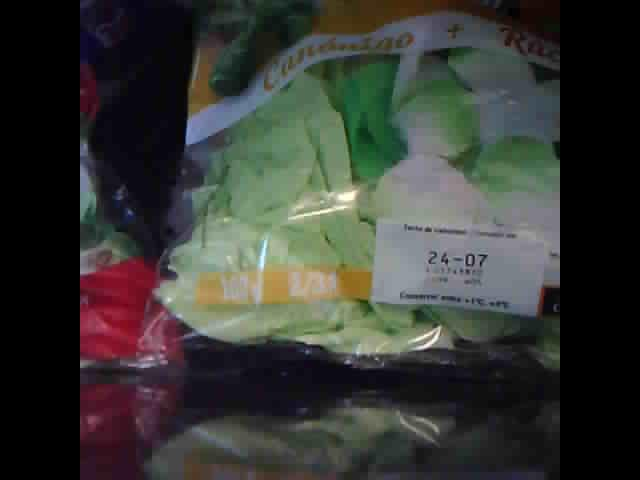florette: (126, 3, 561, 376), (82, 4, 190, 372)
